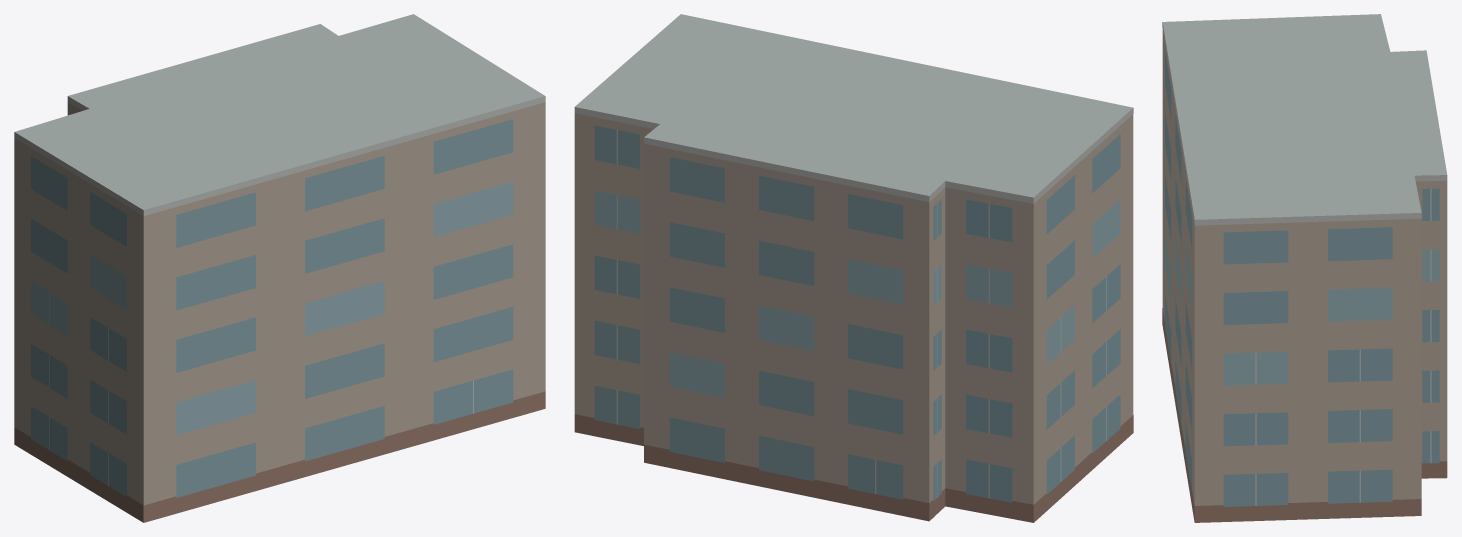
The model's file is survey-upis-32757702.glb.
3 views of the same model, side by side, from view 1: azimuth 30°, elevation 25°; view 2: azimuth 150°, elevation 25°; view 3: azimuth 270°, elevation 25° (orthographic). The views are drawn at different scales.
Visible parts, largest first — view 1: survey-upis-32757702.tmp; view 2: survey-upis-32757702.tmp; view 3: survey-upis-32757702.tmp.
Boxes of the visible parts, x1=… form: survey-upis-32757702.tmp: x1=14, y1=14, x2=545, y2=522; survey-upis-32757702.tmp: x1=574, y1=14, x2=1133, y2=522; survey-upis-32757702.tmp: x1=1162, y1=14, x2=1447, y2=522.
Bounding box in the file's own units: 18.58 × 12.75 × 10.87.
